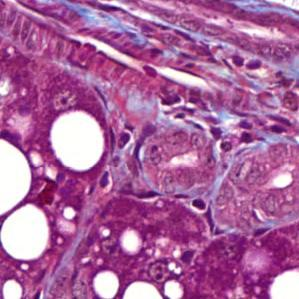steatosis: (46, 108, 106, 173), (0, 207, 50, 263), (94, 271, 121, 298)
